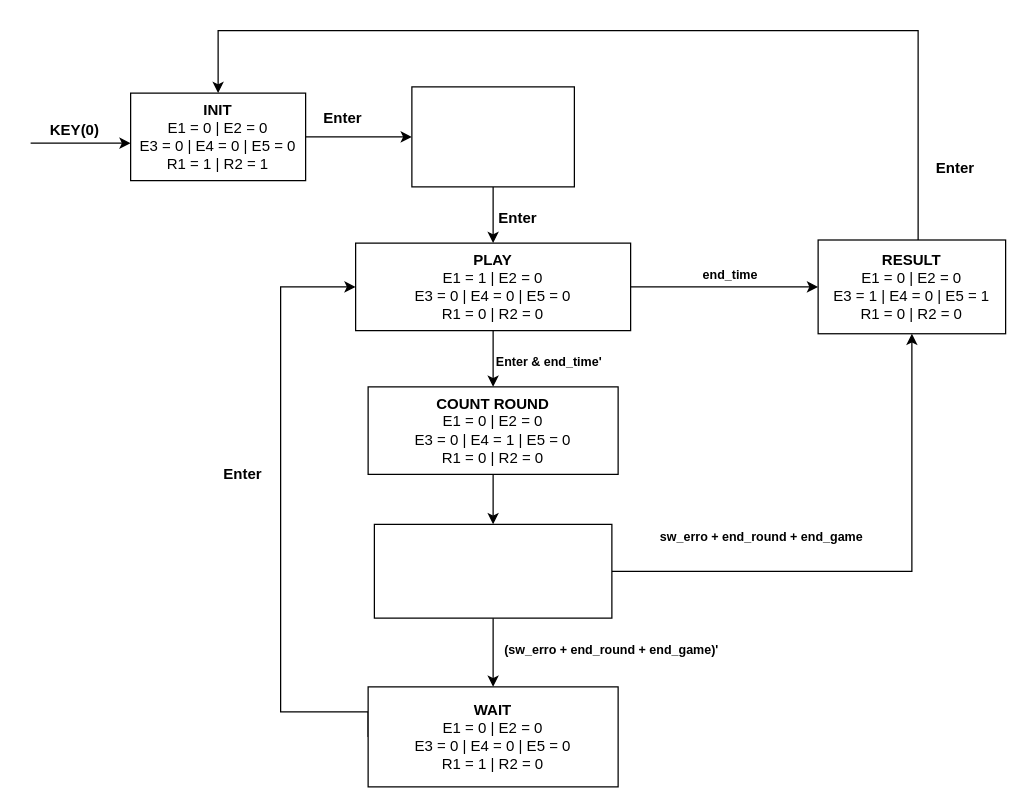
The diagram is 1028 pixels wide and 809 high, and some of its shapes have lost their labels. The centre of each missing label's shape, as x and y in pixels:
CHECK E1 = 0 | E2 = 0 E3 = 1 | E4 = 0 | E5 = 0 R1 = 0 | R2 = 0: point (492, 570)
SETUP E1 = 0 | E2 = 1 E3 = 0 | E4 = 0 | E5 = 0 R1 = 0 | R2 = 0: point (492, 136)
